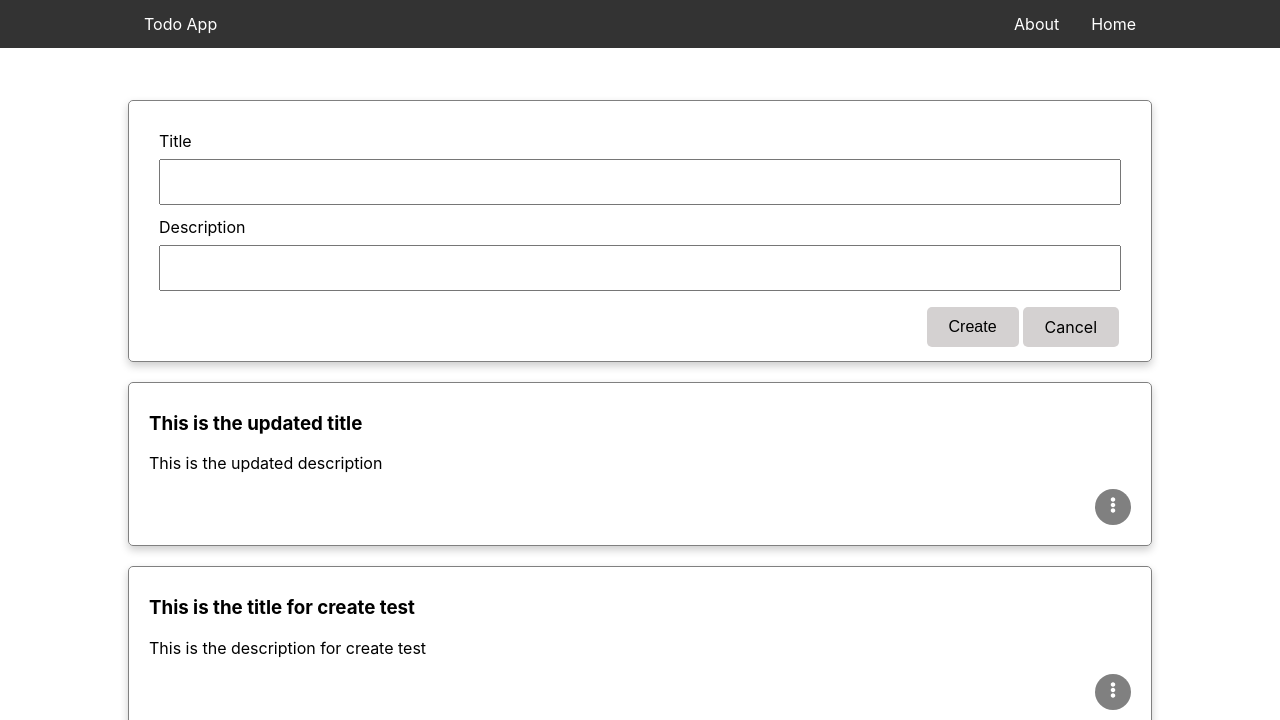
Test case: NoteCreatePage › tests validation
Type "This is the title for validation" into the field named "title" at {"x": 640, "y": 182}, box [159, 159, 1121, 205]
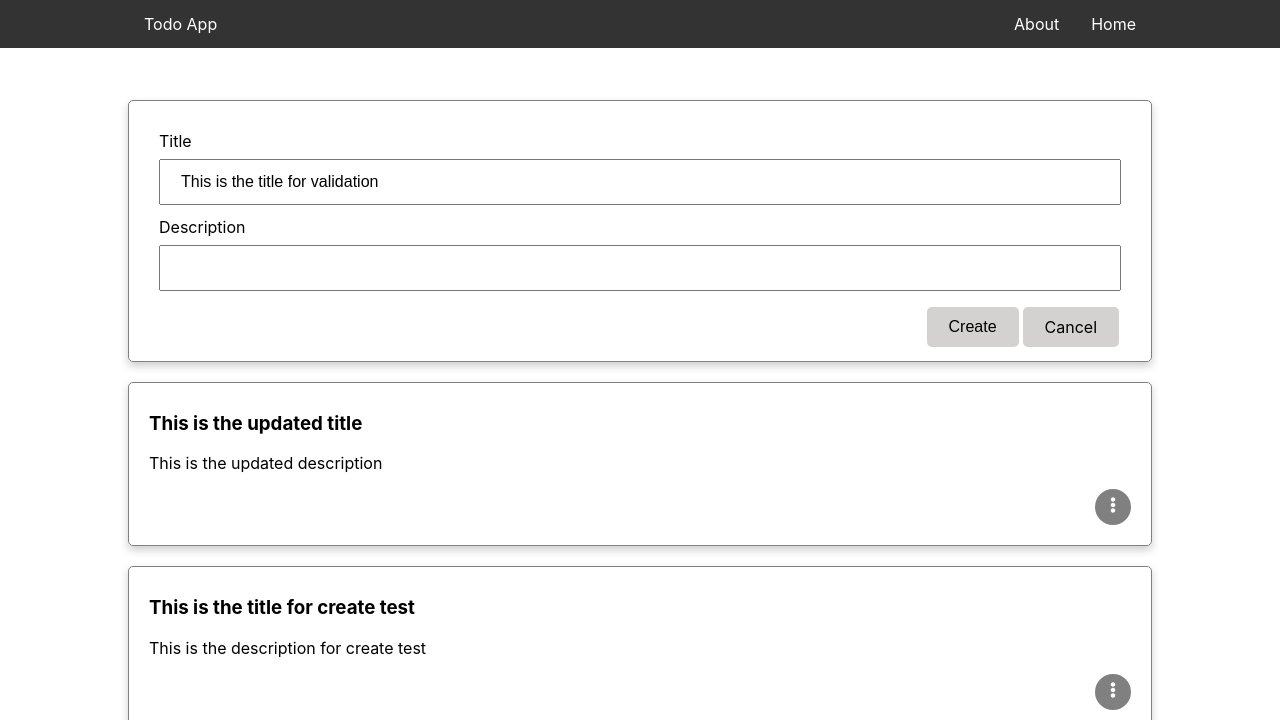
Click the button "Create" at {"x": 973, "y": 327}, box [927, 307, 1019, 347]
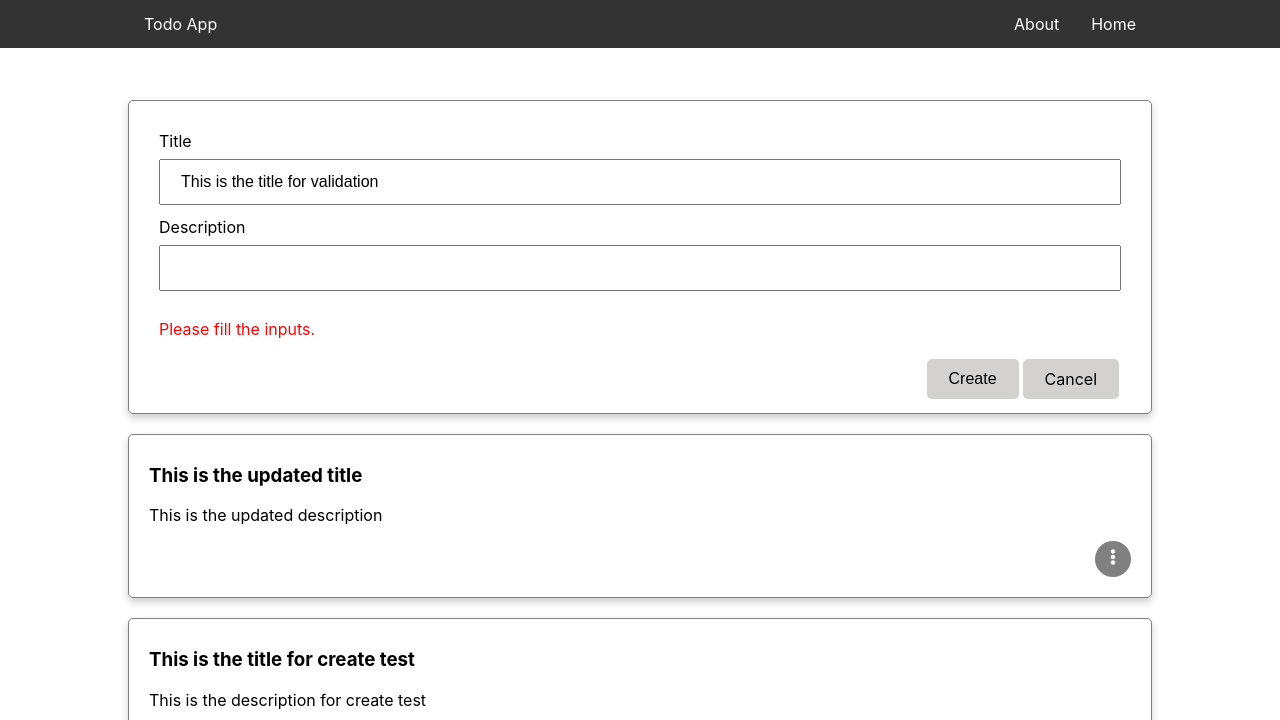
Check: the text "Please fill the inputs" is shown, box [159, 319, 315, 339]
